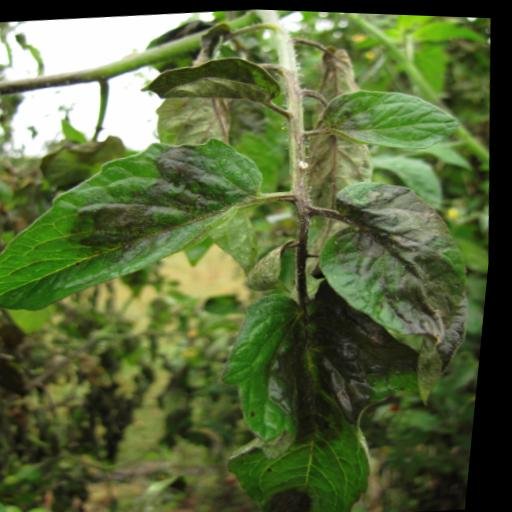Late Blight: (200, 269, 437, 512), (0, 122, 281, 323), (299, 169, 500, 414)
